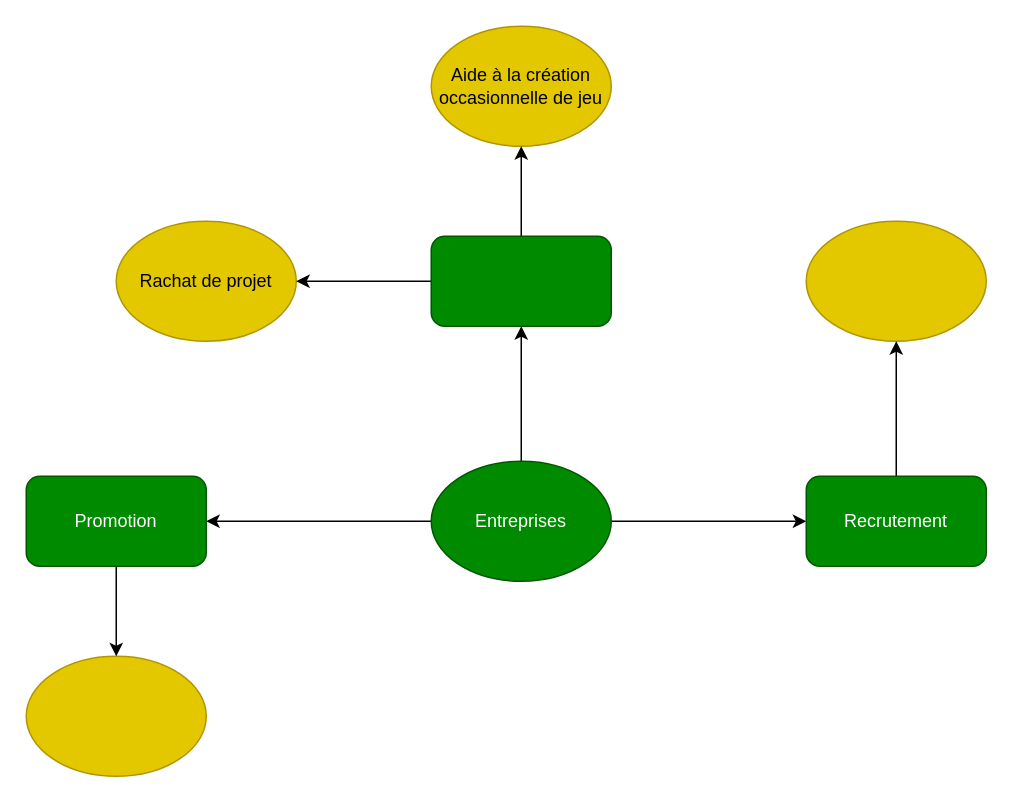
The diagram is 1013 pixels wide and 803 high, and some of its shapes have lost their labels. Here are the shapes that lost their labels. From the top down, the centre of each, then its label:
At point (520, 280): "Production".
At point (895, 280): "Recherche premium de pofils".
At point (115, 715): "Mise en avant d'outils".
